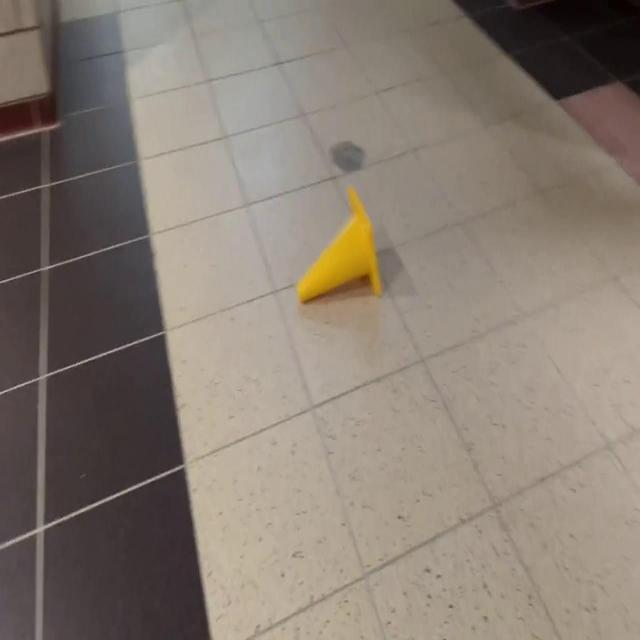frc_cone: (295, 184, 383, 308)
